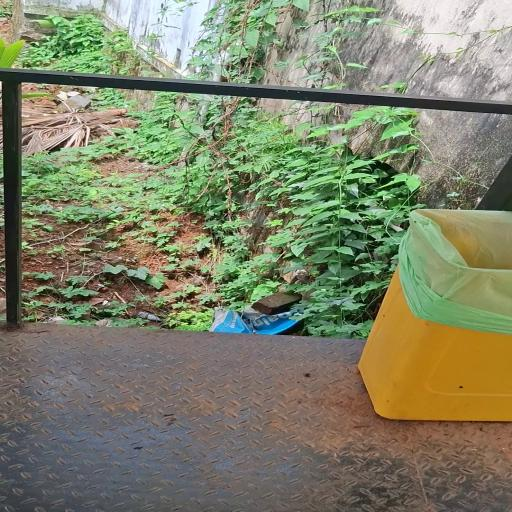Nilkamal-dustbin-detection: (359, 210, 512, 421)
